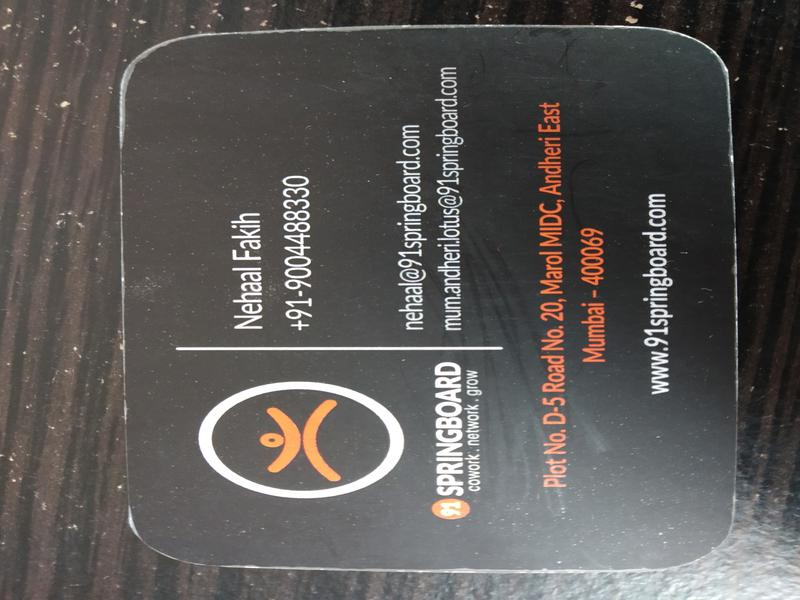card: (121, 26, 740, 573)
